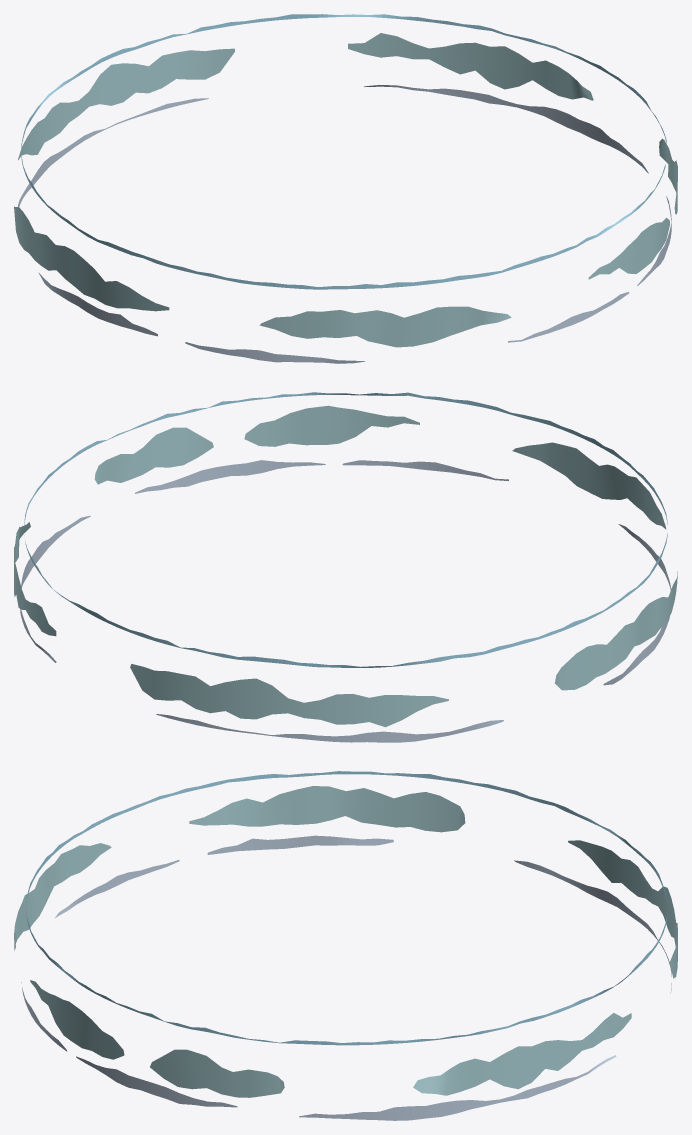
File: Cloudz.gltf
3 renders of one model, top to bottom at view 1: azimuth 30°, elevation 25°; view 2: azimuth 150°, elevation 25°; view 3: azimuth 270°, elevation 25°, orthographic.
Parts seen in each view (by area): view 1: Cloudz; view 2: Cloudz; view 3: Cloudz.
Boxes of the visible parts, x1,y1,x2,y2 form: Cloudz: (14, 14, 677, 363); Cloudz: (14, 392, 677, 742); Cloudz: (14, 771, 677, 1120).
Size of the model in its own units: 104849 by 14285 by 105649.
